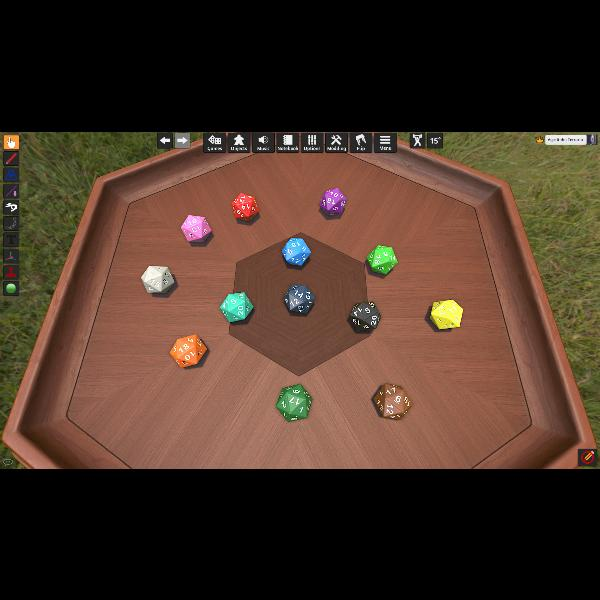d20: (275, 382, 311, 420), (372, 383, 408, 419), (171, 334, 207, 368), (219, 292, 252, 322), (142, 264, 174, 294), (430, 299, 462, 329), (366, 245, 396, 275), (284, 284, 314, 314), (350, 301, 378, 331), (182, 215, 212, 243), (231, 192, 258, 222), (282, 238, 310, 266), (320, 188, 346, 216)
